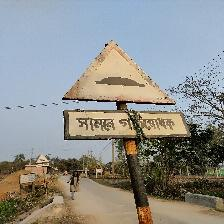Speed-breaker: (61, 39, 186, 139)
